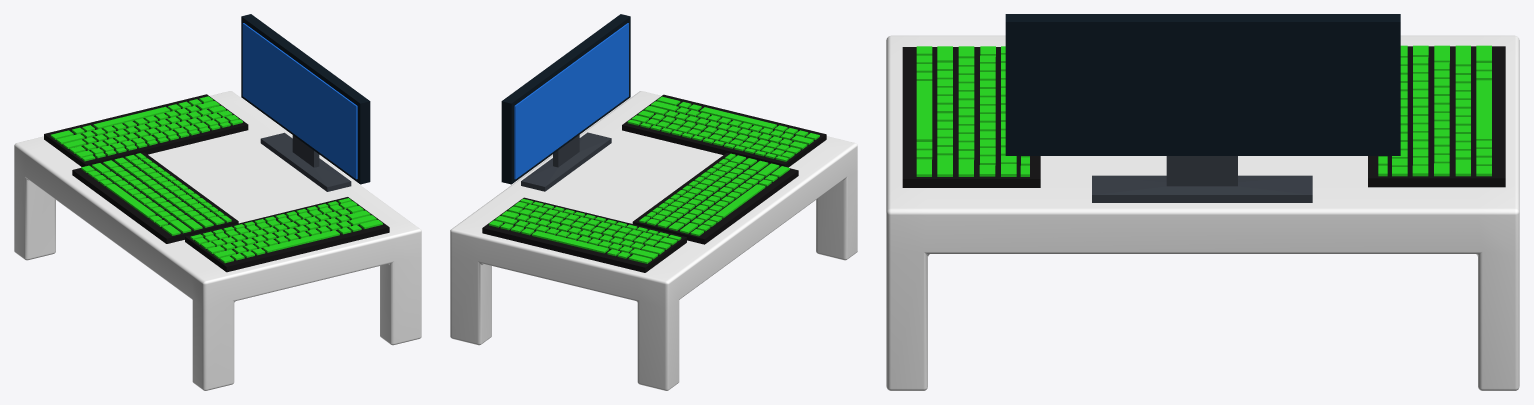
The model's file is computer.glb.
3 renders of one model, left to right at view 1: azimuth 30°, elevation 25°; view 2: azimuth 150°, elevation 25°; view 3: azimuth 270°, elevation 25°, orthographic. The views are drawn at different scales.
Visible parts, largest first — view 1: Cube.001, Cube.005, Cube.164, Cube, Cube.083, Cube.165, Cube.084, Cube.002; view 2: Cube.001, Cube.005, Cube.083, Cube, Cube.164, Cube.084, Cube.165, Cube.002; view 3: Cube.001, Cube.005, Cube.083, Cube.164, Cube.165, Cube.084.
Boxes of the visible parts, x1,y1,x2,y2 form: Cube.001: (14,91,421,390); Cube.005: (241,14,370,191); Cube.164: (185,197,389,272); Cube: (72,152,238,243); Cube.083: (44,94,248,166); Cube.165: (263,230,339,252); Cube.084: (93,106,170,129); Cube.002: (106,183,155,217); Cube.001: (450,91,857,390); Cube.005: (501,14,630,191); Cube.083: (482,197,686,272); Cube: (632,153,798,244); Cube.164: (622,94,826,167); Cube.084: (532,231,608,253); Cube.165: (700,107,776,129); Cube.002: (715,184,765,218); Cube.001: (886,35,1519,390); Cube.005: (1005,14,1400,202); Cube.083: (1368,46,1505,187); Cube.164: (902,47,1040,187); Cube.165: (916,81,932,141); Cube.084: (1476,80,1491,140).
Size of the model in its own units: 2.69 by 2.53 by 4.06.
